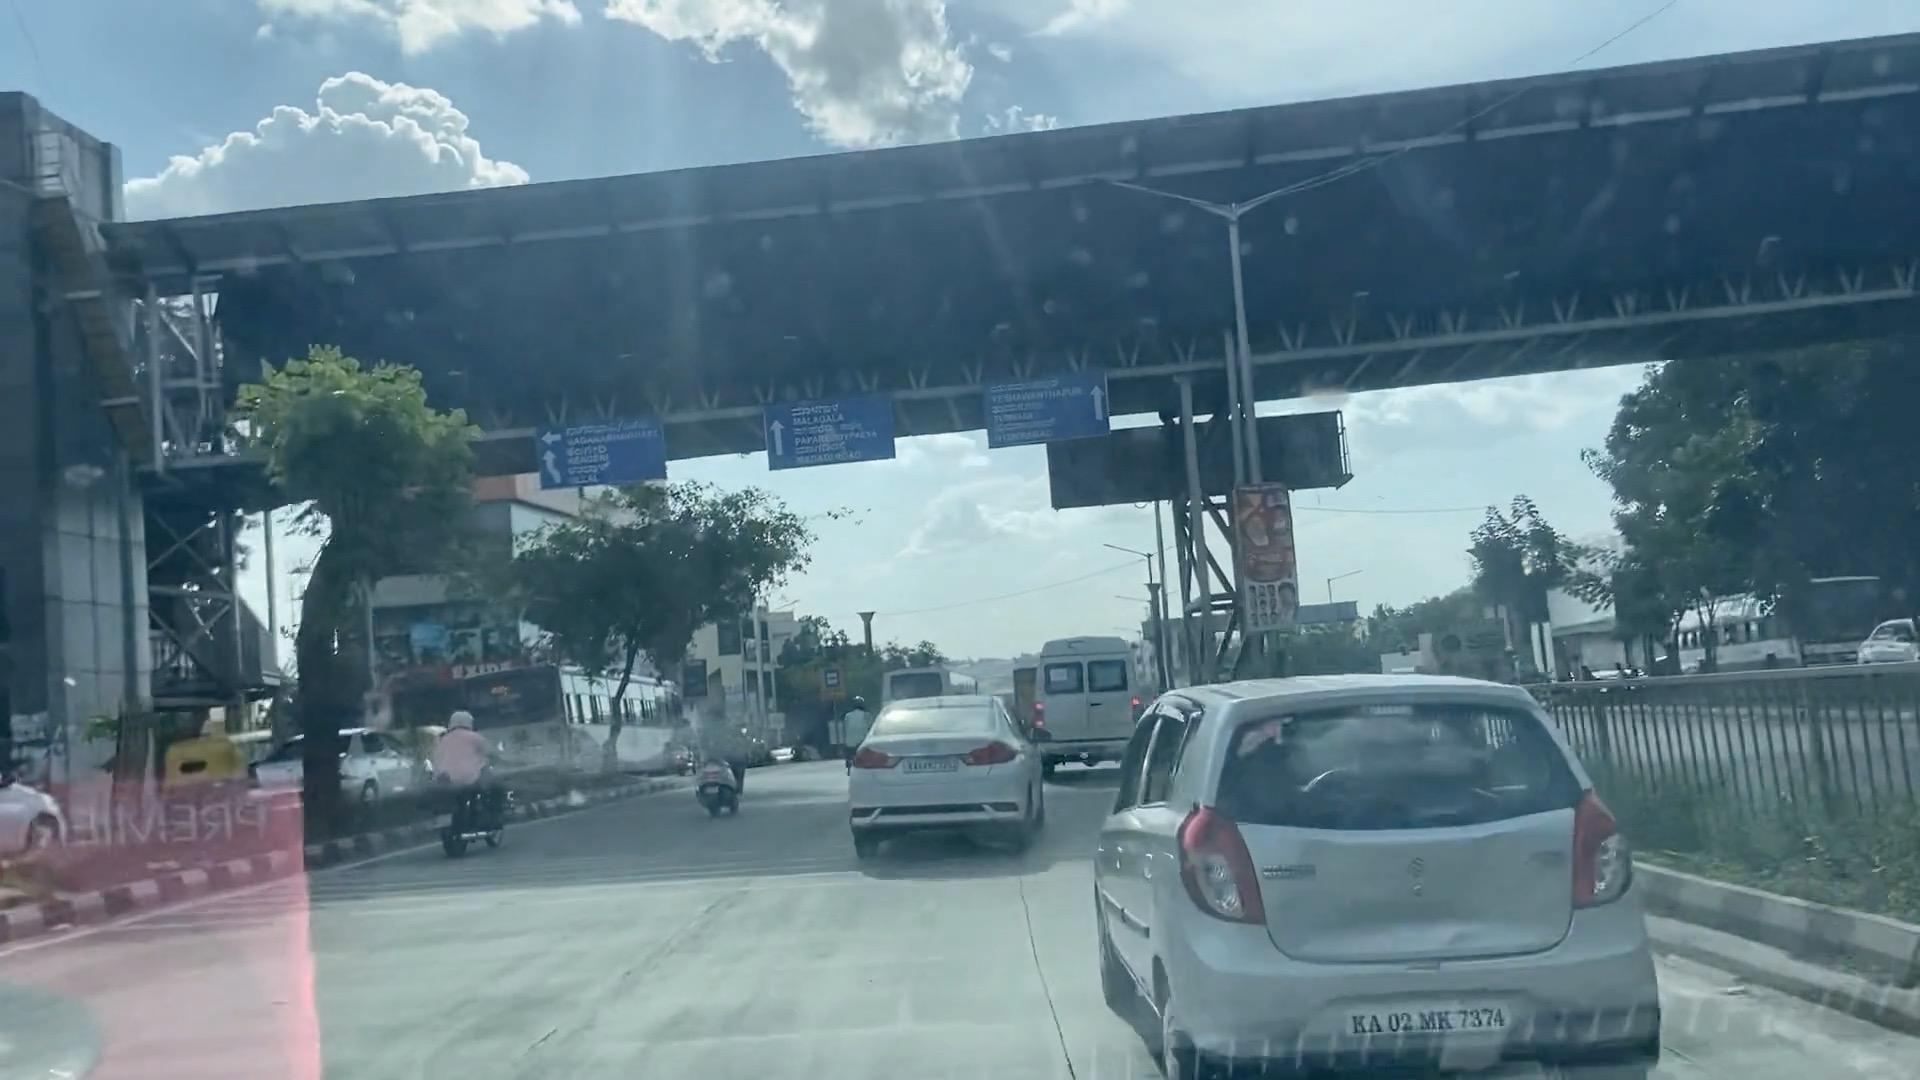LMV: (1163, 690, 1613, 1047), (848, 703, 1040, 840), (444, 703, 508, 873), (692, 698, 748, 803)
